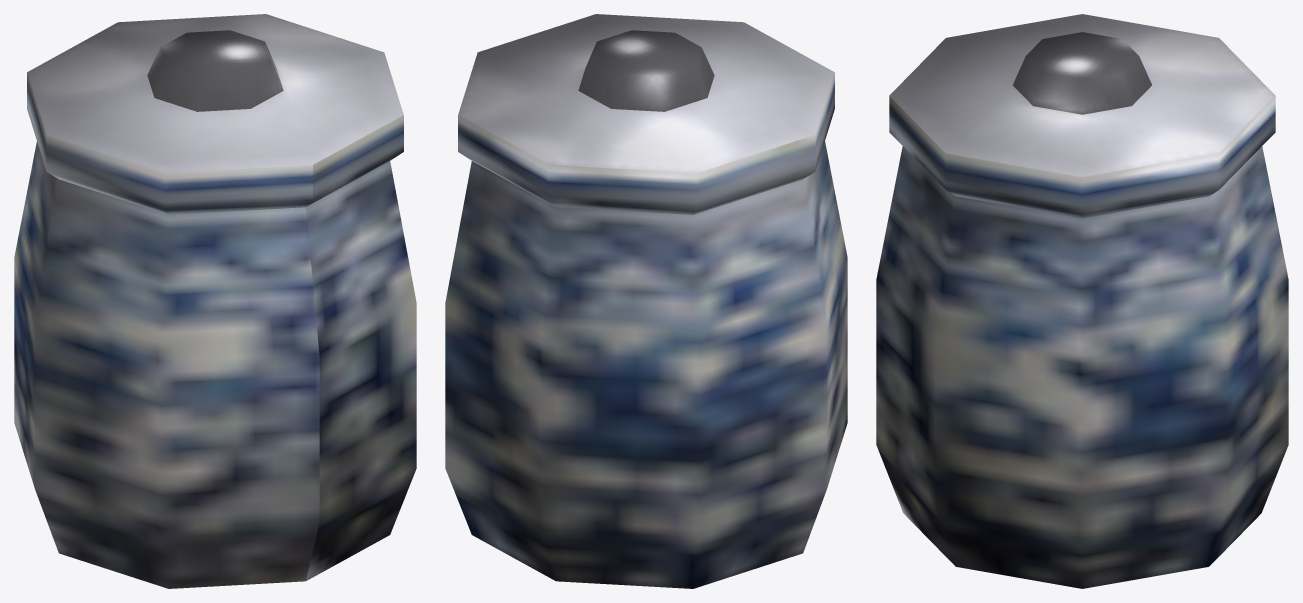
File: Tea_5.FBX
3 renders of one model, left to right at view 1: azimuth 30°, elevation 25°; view 2: azimuth 150°, elevation 25°; view 3: azimuth 270°, elevation 25°, orthographic.
Parts seen in each view (by area): view 1: tea5; view 2: tea5; view 3: tea5.
Part boxes in pixels (box(x1,y1,x2,y2)): tea5: box(14, 14, 416, 588); tea5: box(445, 14, 847, 588); tea5: box(876, 14, 1288, 588).
Size of the model in its own units: 7.38 by 9.03 by 7.38.
